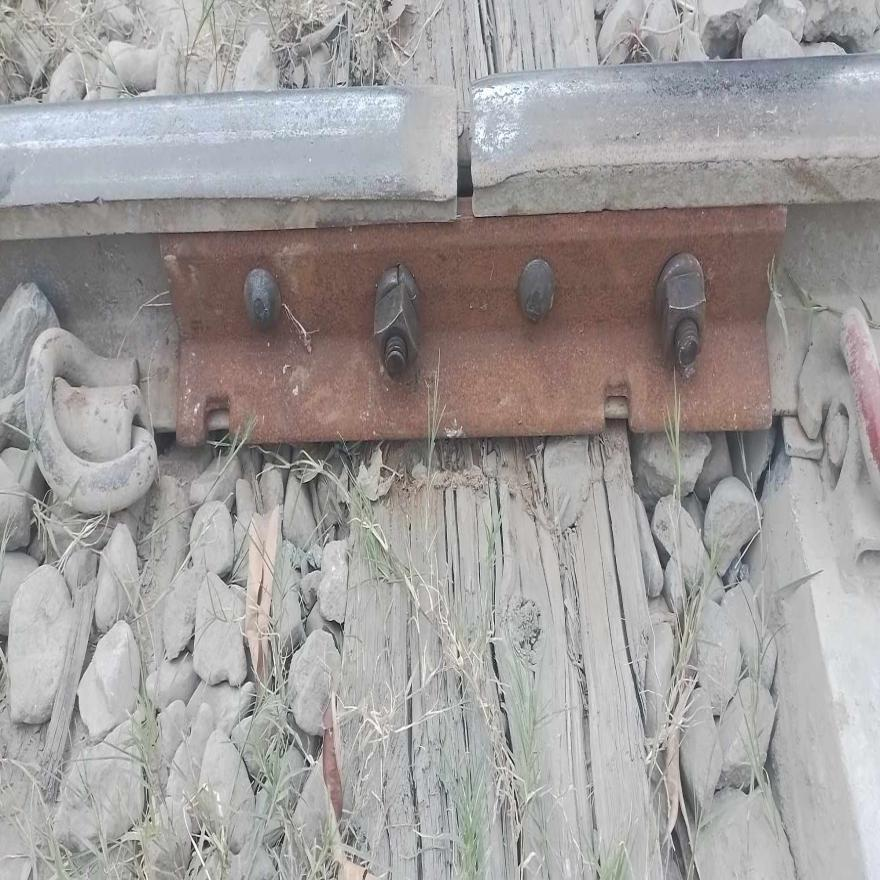railway-gap: (417, 62, 507, 248)
